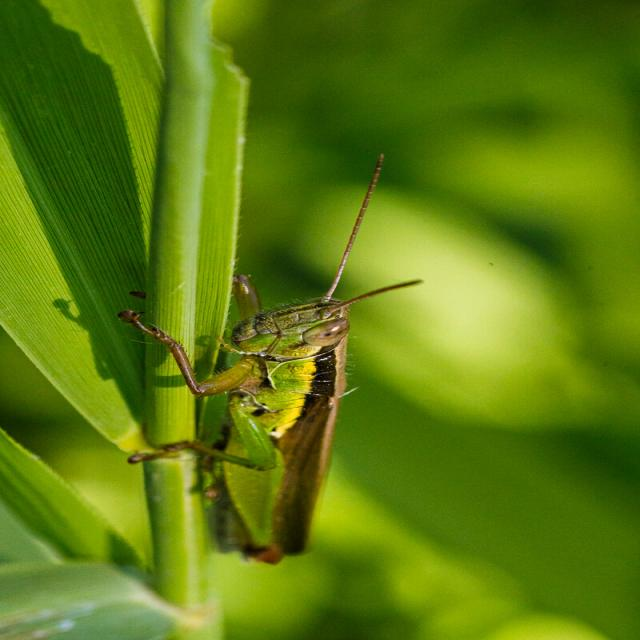Yechan: (138, 178, 410, 360)
